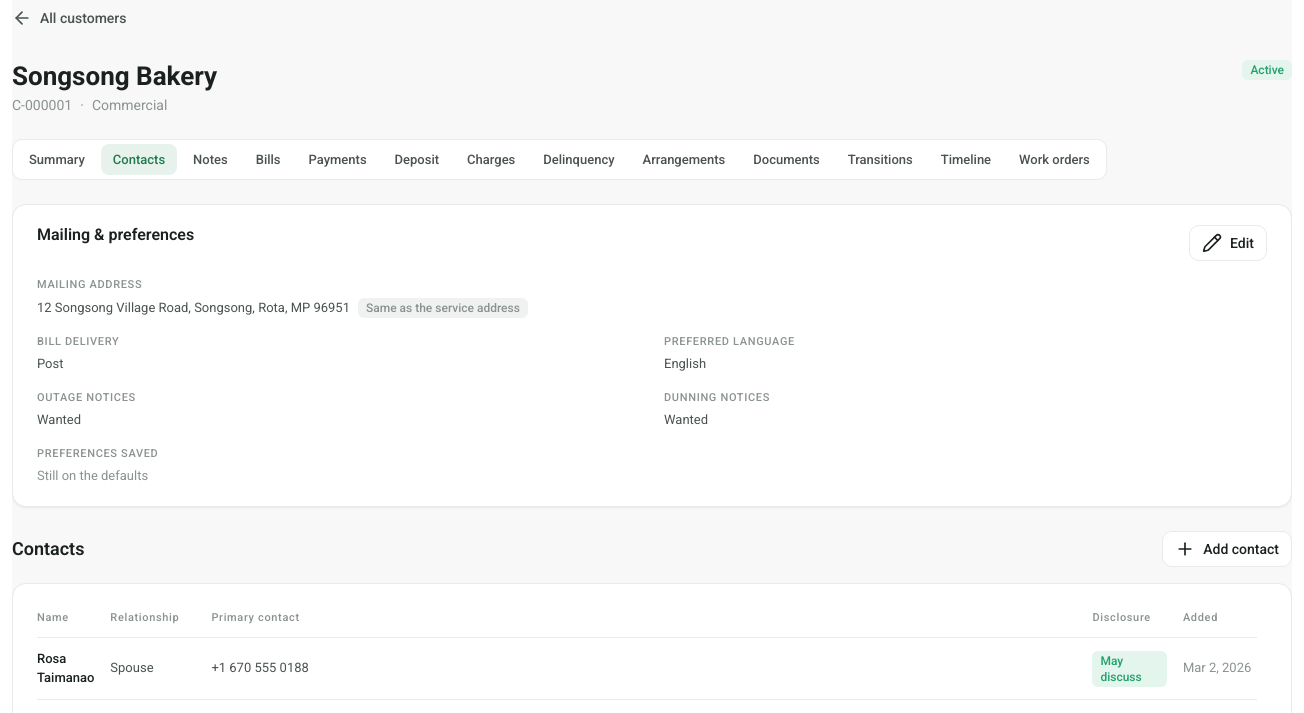
the mailing address and preferences › refuses email delivery when the customer has no email on file
The width and height of the screenshot is (1304, 713).
Expected: the text "Same as the service address" is shown, x1=358 y1=298 x2=528 y2=318
Click the button "Edit" at (1228, 243), box x1=1189 y1=225 x2=1267 y2=261
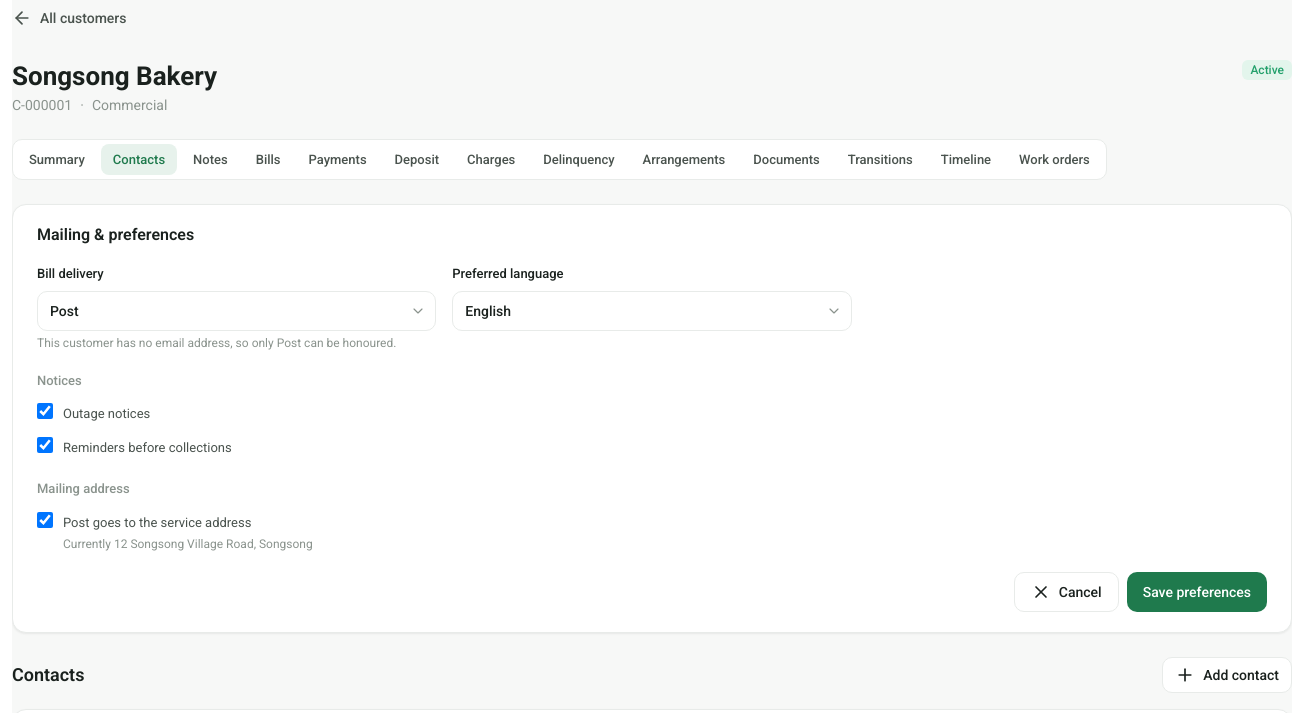
Select "Email" in the dropdown labelled "Bill delivery" at (237, 311), box x1=37 y1=291 x2=436 y2=331
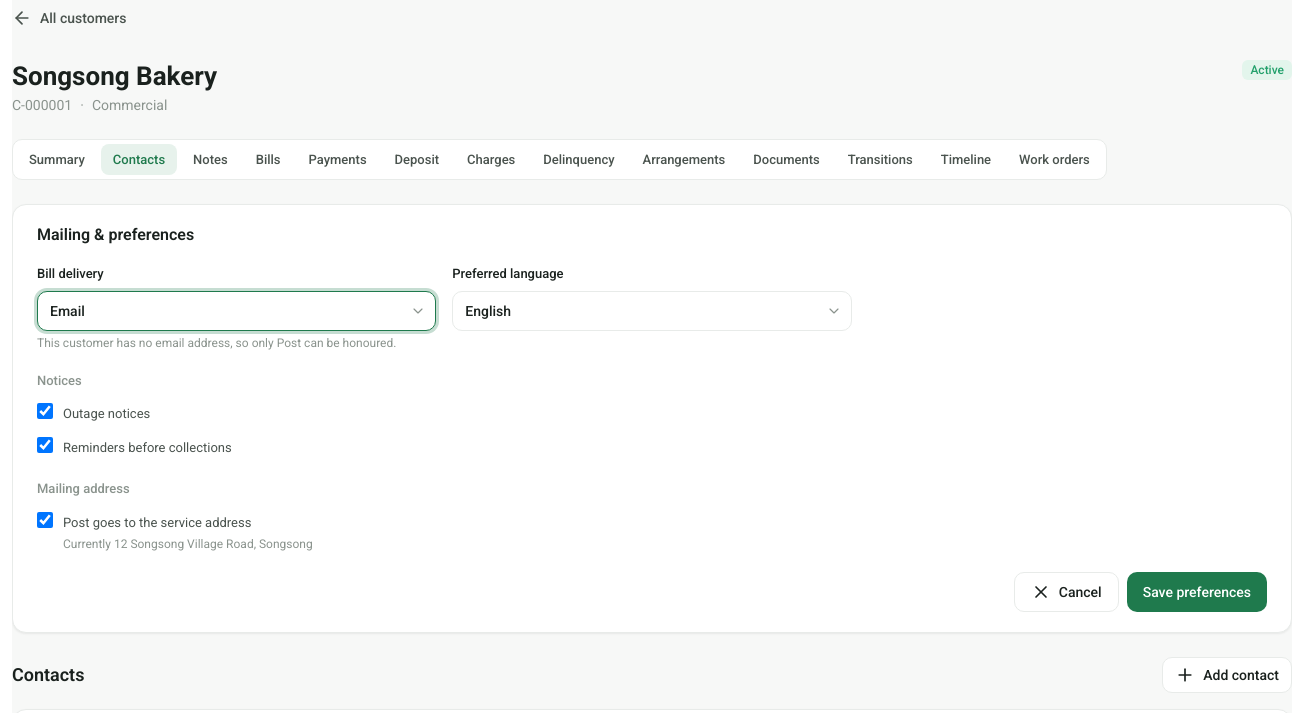
Click the button "Save preferences" at (1197, 592), box x1=1127 y1=572 x2=1267 y2=612
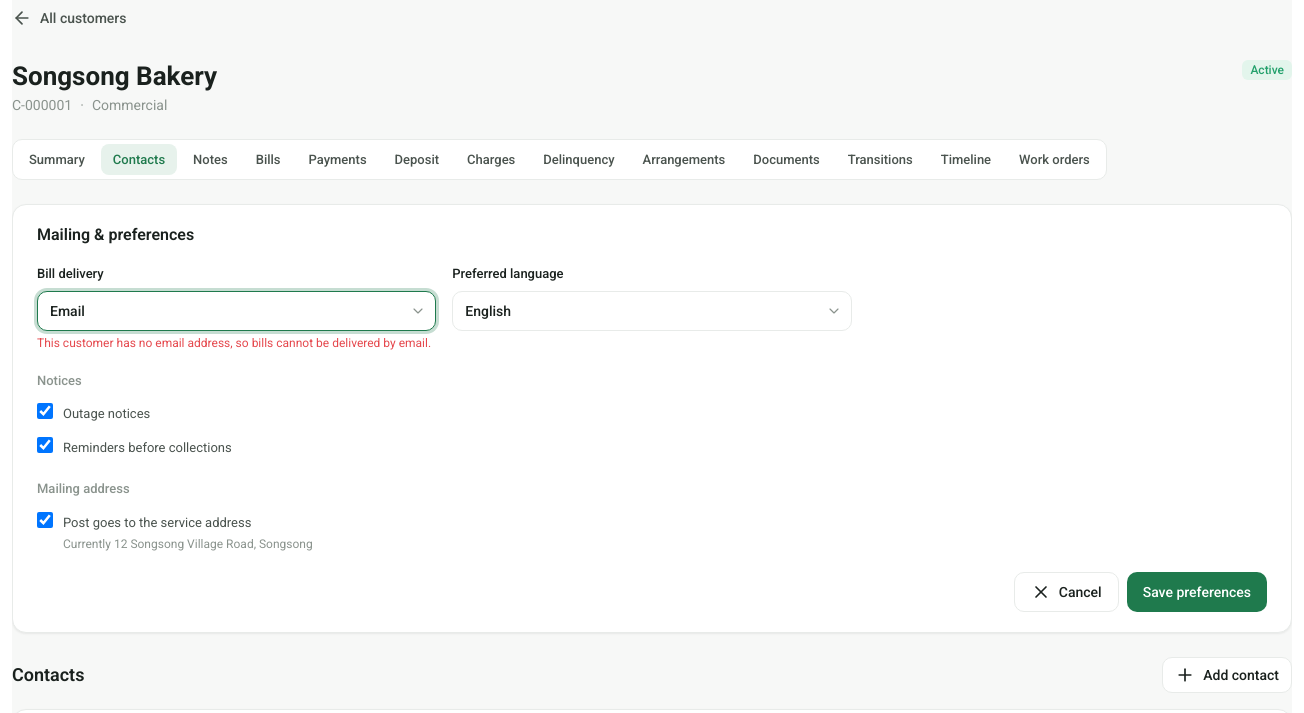
Now the text "This customer has no email address, so bills cannot be delivered by email." is shown, box x1=37 y1=335 x2=436 y2=351
